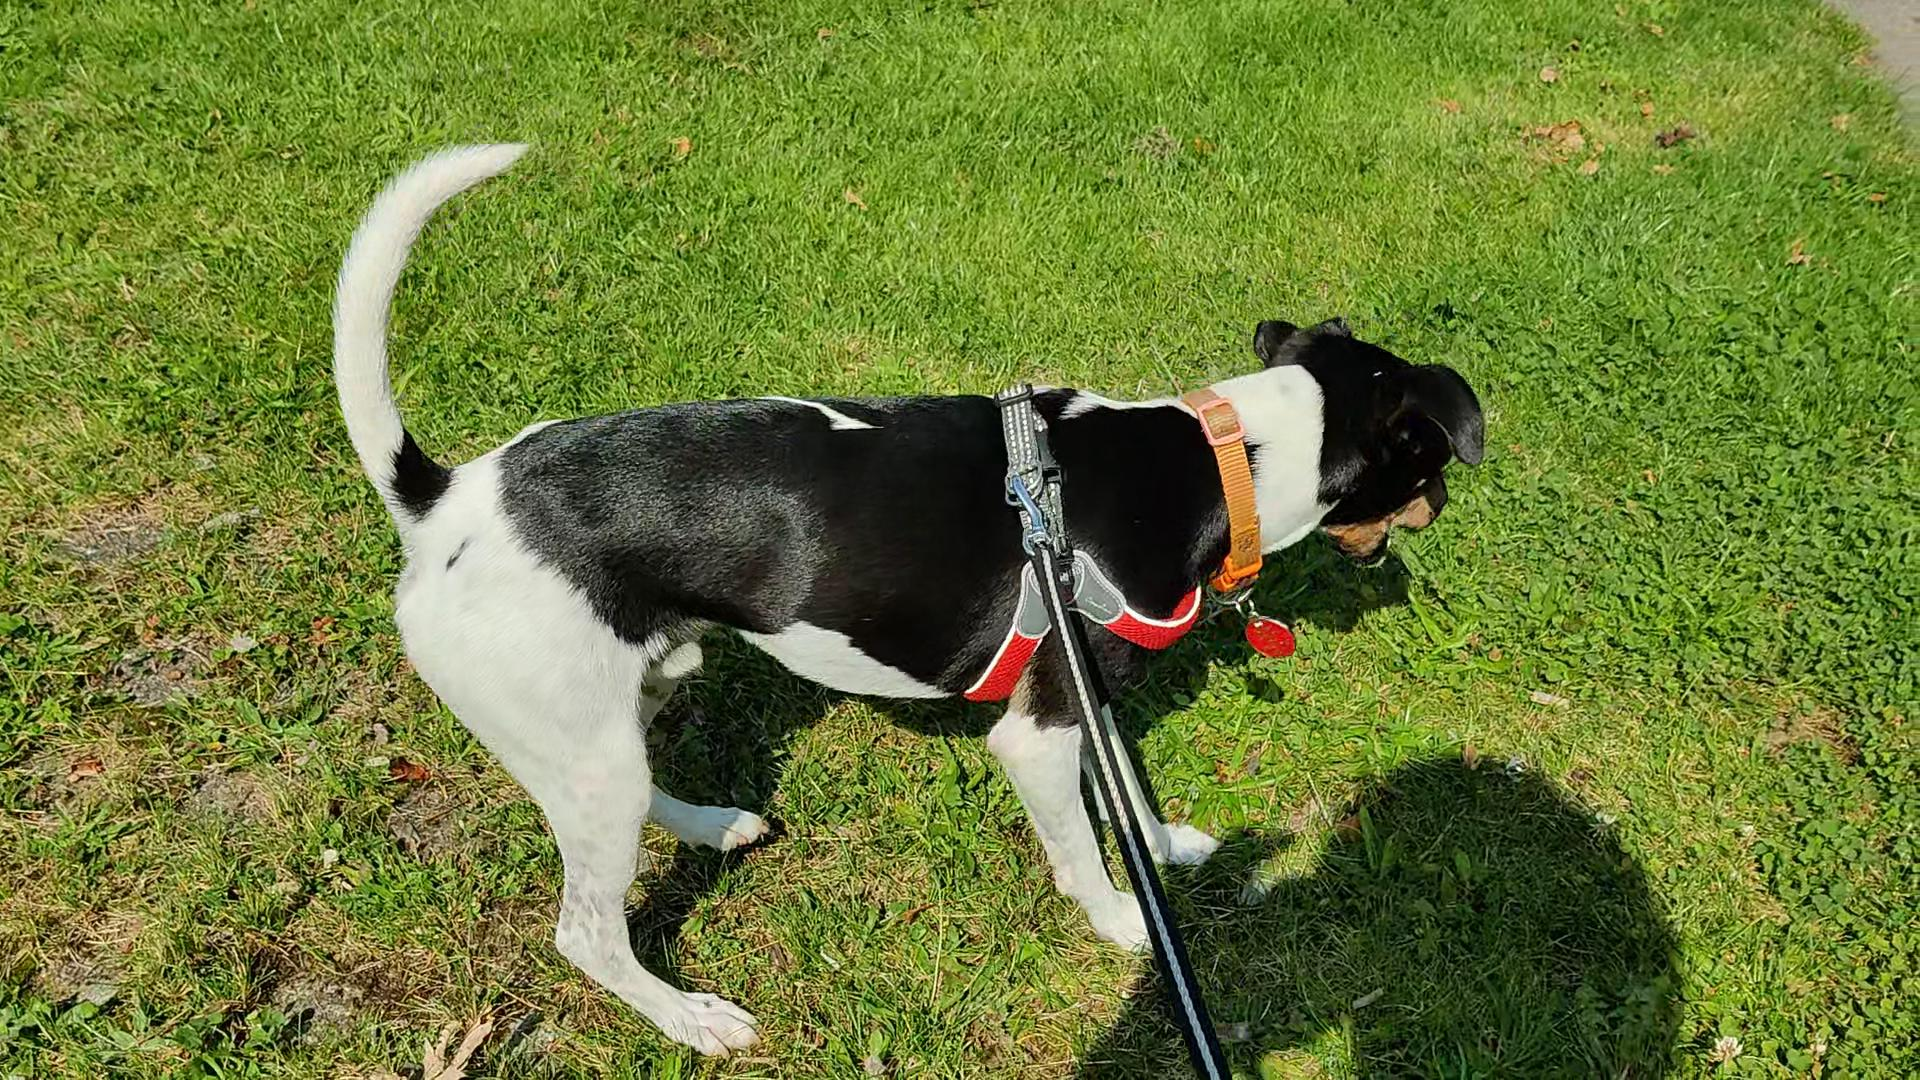Dog: (320, 138, 1491, 1059)
